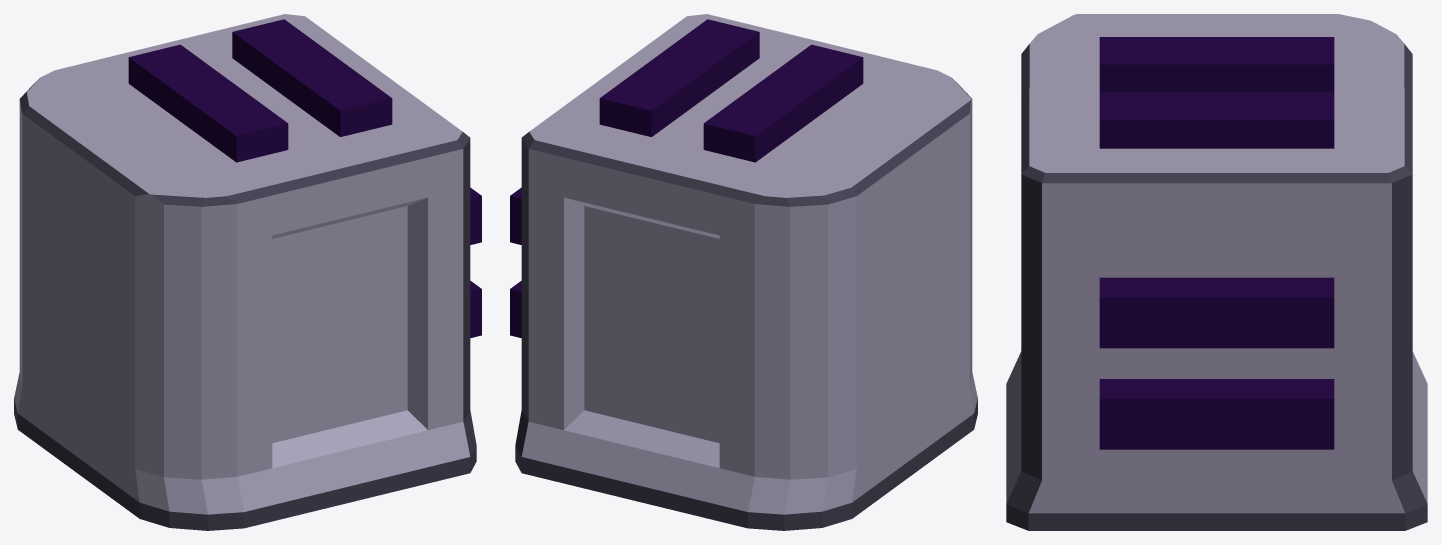
Rendered from As_Machine2.fbx.
3 views of the same model, side by side, from view 1: azimuth 30°, elevation 25°; view 2: azimuth 150°, elevation 25°; view 3: azimuth 270°, elevation 25° (orthographic). The views are drawn at different scales.
Parts seen in each view (by area): view 1: Cube; view 2: Cube; view 3: Cube.
Boxes of the visible parts, x1=… form: Cube: x1=14, y1=14, x2=481, y2=530; Cube: x1=510, y1=14, x2=977, y2=530; Cube: x1=1006, y1=14, x2=1427, y2=530.
Bounding box in the file's own units: 224 × 216 × 215.
